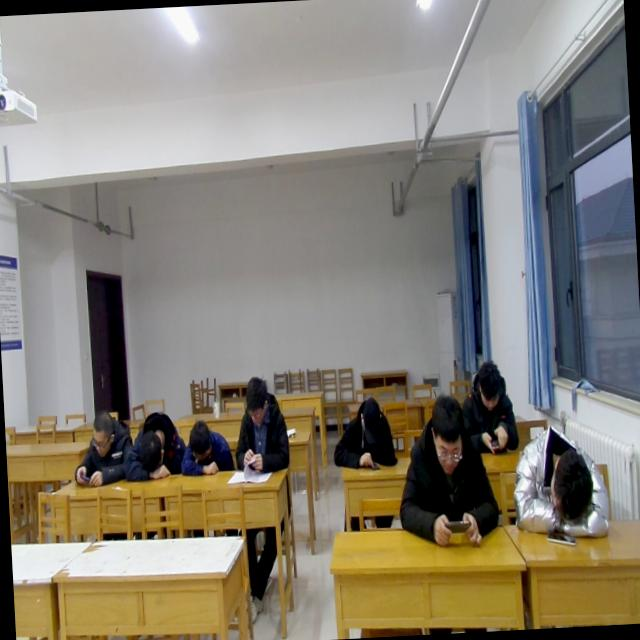bow: (507, 419, 615, 544), (122, 406, 192, 486), (330, 394, 400, 471), (70, 408, 136, 488), (176, 416, 236, 481)
down: (422, 390, 467, 476), (474, 358, 506, 413), (241, 371, 271, 429), (88, 404, 116, 458), (356, 394, 385, 440)
sit: (390, 391, 503, 553), (458, 358, 524, 463), (230, 372, 292, 476)
